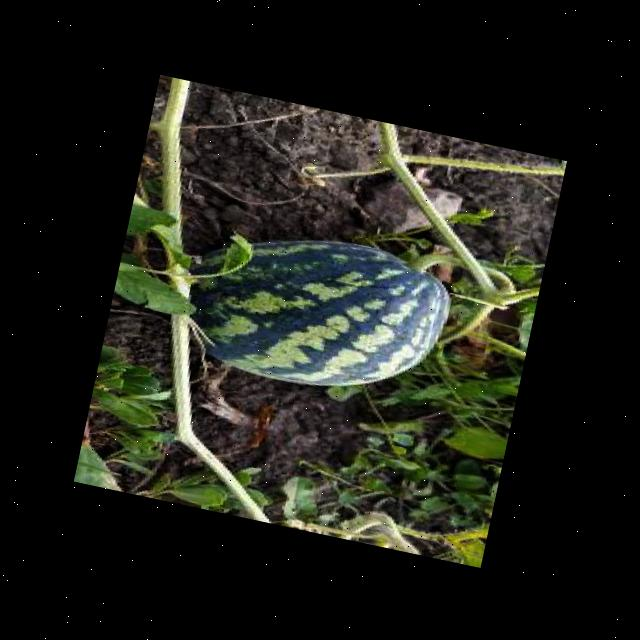watermelon: (168, 208, 460, 412)
